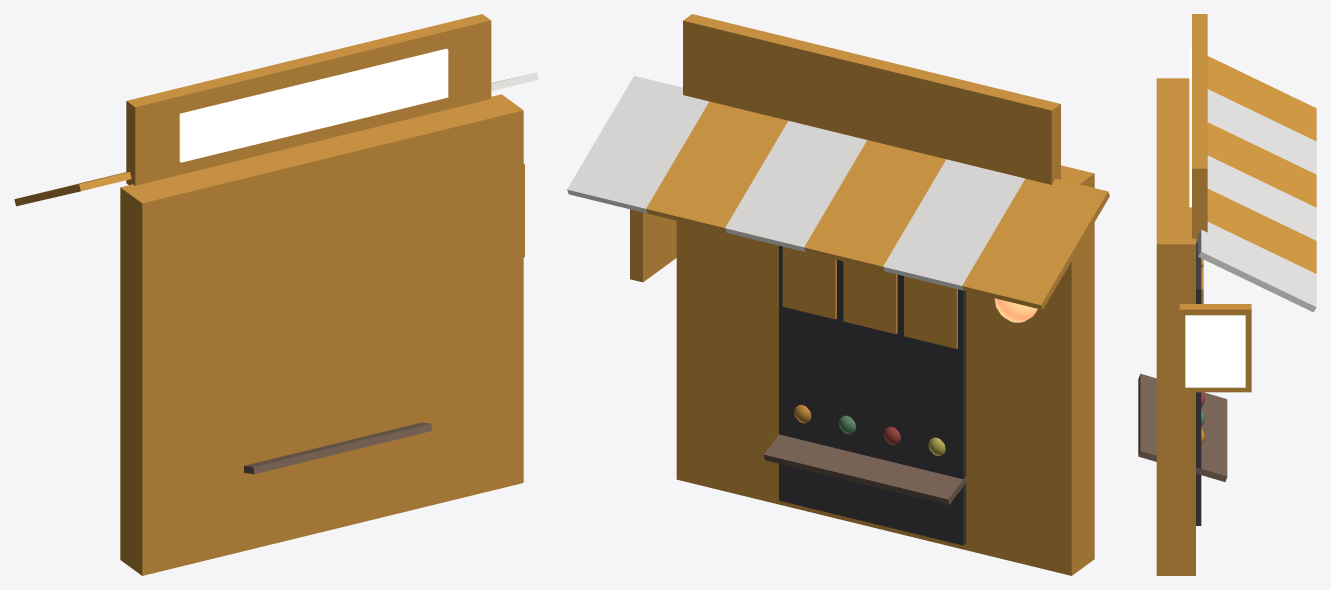
File: prop_mise_kudamono.glb
3 renders of one model, left to right at view 1: azimuth 30°, elevation 25°; view 2: azimuth 150°, elevation 25°; view 3: azimuth 270°, elevation 25°, orthographic. The views are drawn at different scales.
Visible parts, largest first — view 1: mise_kudamono; view 2: mise_kudamono; view 3: mise_kudamono.
Part boxes in pixels (x1=…): mise_kudamono: x1=14, y1=14, x2=538, y2=575; mise_kudamono: x1=567, y1=14, x2=1109, y2=575; mise_kudamono: x1=1138, y1=14, x2=1316, y2=575.
Size of the model in its own units: 3.6 by 3.39 by 1.36.
